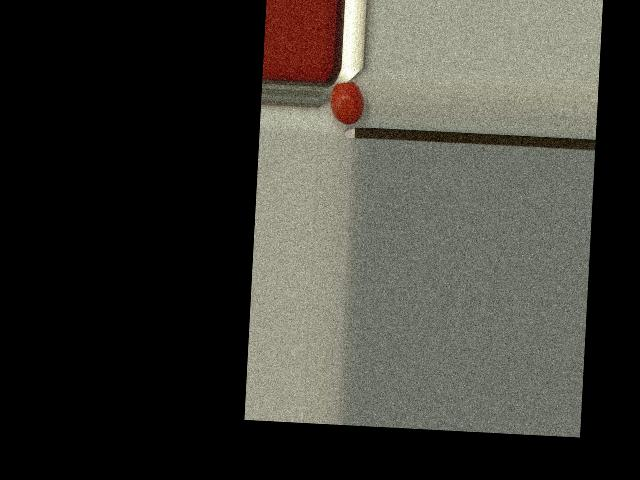tomato: (329, 80, 365, 125)
